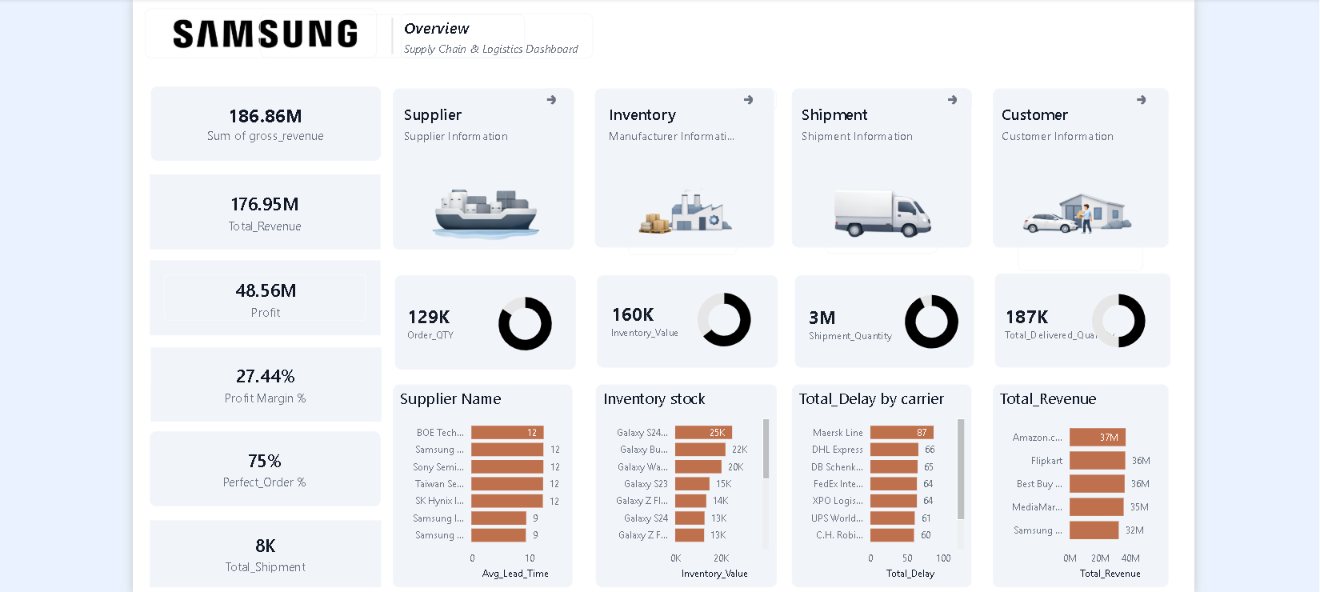

The page's visual inventory and layout, read from the dashboard file:
{"tool":"powerbi","page":{"name":"Page 1","canvas":[1280,720],"ordinal":0},"visuals":[{"type":"shape","box":[313.7,108.6,218.4,194.2],"z":0},{"type":"shape","box":[1037.5,108.6,212.3,191.8],"z":1000},{"type":"shape","box":[795,108.6,217.2,191.8],"z":2000},{"type":"shape","box":[557.4,108.6,217.2,191.8],"z":3000},{"type":"image","box":[346.2,206.3,153.2,94.1],"z":4000},{"type":"image","box":[14.5,12.1,279.9,60.3],"z":5000},{"type":"image","box":[597.2,197.9,131.5,112.2],"z":6000},{"type":"image","box":[834.9,201.5,136.3,106.2],"z":7000},{"type":"image","box":[1067.7,185.8,150.8,143.6],"z":8000},{"type":"actionButton","box":[491,108.6,41,27.7],"z":9000},{"type":"actionButton","box":[728.7,108.6,48.3,27.7],"z":10000},{"type":"actionButton","box":[974.8,108.6,37.4,27.7],"z":11000},{"type":"actionButton","box":[1202.8,108.6,47.1,27.7],"z":12000},{"type":"shape","title":"Customer","box":[1044.8,123.1,158,54.3],"z":13000},{"type":"shape","title":"Shipment","box":[803.5,123.1,158,54.3],"z":14000},{"type":"shape","title":"Inventory","box":[570.6,123.1,158,54.3],"z":15000},{"type":"shape","title":"Supplier","box":[323.3,123.1,158,54.3],"z":16000},{"type":"shape","title":"Overview","box":[323.3,18.1,231.6,54.3],"z":17000},{"type":"shape","box":[153.2,19.3,319.7,51.9],"z":18000},{"type":"cardVisual","fields":{"Data":["MeasuresTable.Total_Revenue"]},"box":[20.5,212.3,278.7,90.5],"z":19000},{"type":"cardVisual","fields":{"Data":["MeasuresTable.Profit"]},"box":[20.7,316.1,278.7,90.5],"z":20000},{"type":"cardVisual","fields":{"Data":["MeasuresTable.Total_Shipment"]},"box":[20.8,630.3,279.1,80.8],"z":21000},{"type":"cardVisual","fields":{"Data":["MeasuresTable.Perfect_Order %"]},"box":[21,522.4,278.7,90.5],"z":22000},{"type":"cardVisual","fields":{"Data":["MeasuresTable.Profit Margin %"]},"box":[21.2,421,278.7,89.3],"z":23000},{"type":"cardVisual","fields":{"Data":["Sum(fact_sales.gross_revenue)"]},"box":[21.4,106.5,277.8,89.3],"z":24000},{"type":"shape","box":[316.1,334.2,218.4,113.4],"z":25000},{"type":"shape","box":[1040,331.8,212.3,113.4],"z":26000},{"type":"shape","box":[798.7,334.2,216,111],"z":27000},{"type":"shape","box":[559.8,334.2,218.4,111],"z":28000},{"type":"cardVisual","fields":{"Data":["MeasuresTable.Order_QTY"]},"box":[313.7,345,167.7,90.5],"z":29000},{"type":"cardVisual","fields":{"Data":["MeasuresTable.Inventory_Value"]},"box":[559.8,342.6,167.7,90.5],"z":30000},{"type":"cardVisual","fields":{"Data":["MeasuresTable.Total_Shipment_Quantity"]},"box":[798.7,346.2,167.7,90.5],"z":31000},{"type":"cardVisual","fields":{"Data":["MeasuresTable.Total_Delivered_Quantity"]},"box":[1035.1,345,167.7,90.5],"z":32000},{"type":"clusteredBarChart","title":"Supplier Name","fields":{"Y":["MeasuresTable.Avg_Lead_Time"],"Category":["dim_supplier.supplier_name"]},"box":[313.7,465.7,217.2,244.9],"z":33000},{"type":"clusteredBarChart","title":"Inventory stock","fields":{"Y":["MeasuresTable.Inventory_Value"],"Category":["dim_product.product_name"]},"box":[558.6,465.7,218.4,244.9],"z":34000},{"type":"clusteredBarChart","fields":{"Y":["MeasuresTable.Total_Delay"],"Category":["fact_shipment.carrier"]},"box":[795,465.7,217.2,244.9],"z":35000},{"type":"clusteredBarChart","title":"Total_Revenue ","fields":{"Y":["MeasuresTable.Total_Revenue"],"Category":["dim_customer.customer_name"]},"box":[1037.5,465.7,212.3,244.9],"z":36000},{"type":"donutChart","fields":{"Y":["MeasuresTable.Inventory_Value","MeasuresTable.Safety_Stock"]},"box":[666,342.6,95.3,90.5],"z":37000},{"type":"donutChart","fields":{"Y":["MeasuresTable.Total_Shipment","MeasuresTable.Total_Delay"]},"box":[915.7,345,96.5,90.5],"z":38000},{"type":"donutChart","fields":{"Y":["MeasuresTable.Total_Delivered_Quantity","MeasuresTable.Total_QTY_Delay"]},"box":[1126.8,343.8,125.5,90.5],"z":39000},{"type":"donutChart","fields":{"Y":["MeasuresTable.Order_QTY","MeasuresTable.Defect_Rate"]},"box":[425.9,347.5,95.3,90.5],"z":40000}]}

Visuals, with their boxes on the page's 1280x720 design canvas (x1, y1, x2, y2). These are canvas units, not pixel positions in the 1320x592 screenshot, which may show the page scaled, cropped or inside an application window:
shape: {"left": 314, "top": 109, "right": 532, "bottom": 303}
shape: {"left": 1038, "top": 109, "right": 1250, "bottom": 300}
shape: {"left": 795, "top": 109, "right": 1012, "bottom": 300}
shape: {"left": 557, "top": 109, "right": 775, "bottom": 300}
image: {"left": 346, "top": 206, "right": 499, "bottom": 300}
image: {"left": 14, "top": 12, "right": 294, "bottom": 72}
image: {"left": 597, "top": 198, "right": 729, "bottom": 310}
image: {"left": 835, "top": 202, "right": 971, "bottom": 308}
image: {"left": 1068, "top": 186, "right": 1218, "bottom": 329}
actionButton: {"left": 491, "top": 109, "right": 532, "bottom": 136}
actionButton: {"left": 729, "top": 109, "right": 777, "bottom": 136}
actionButton: {"left": 975, "top": 109, "right": 1012, "bottom": 136}
actionButton: {"left": 1203, "top": 109, "right": 1250, "bottom": 136}
"Customer" shape: {"left": 1045, "top": 123, "right": 1203, "bottom": 177}
"Shipment" shape: {"left": 804, "top": 123, "right": 962, "bottom": 177}
"Inventory" shape: {"left": 571, "top": 123, "right": 729, "bottom": 177}
"Supplier" shape: {"left": 323, "top": 123, "right": 481, "bottom": 177}
"Overview" shape: {"left": 323, "top": 18, "right": 555, "bottom": 72}
shape: {"left": 153, "top": 19, "right": 473, "bottom": 71}
cardVisual - MeasuresTable.Total_Revenue: {"left": 20, "top": 212, "right": 299, "bottom": 303}
cardVisual - MeasuresTable.Profit: {"left": 21, "top": 316, "right": 299, "bottom": 407}
cardVisual - MeasuresTable.Total_Shipment: {"left": 21, "top": 630, "right": 300, "bottom": 711}
cardVisual - MeasuresTable.Perfect_Order %: {"left": 21, "top": 522, "right": 300, "bottom": 613}
cardVisual - MeasuresTable.Profit Margin %: {"left": 21, "top": 421, "right": 300, "bottom": 510}
cardVisual - Sum(fact_sales.gross_revenue): {"left": 21, "top": 106, "right": 299, "bottom": 196}
shape: {"left": 316, "top": 334, "right": 534, "bottom": 448}
shape: {"left": 1040, "top": 332, "right": 1252, "bottom": 445}
shape: {"left": 799, "top": 334, "right": 1015, "bottom": 445}
shape: {"left": 560, "top": 334, "right": 778, "bottom": 445}
cardVisual - MeasuresTable.Order_QTY: {"left": 314, "top": 345, "right": 481, "bottom": 436}
cardVisual - MeasuresTable.Inventory_Value: {"left": 560, "top": 343, "right": 728, "bottom": 433}
cardVisual - MeasuresTable.Total_Shipment_Quantity: {"left": 799, "top": 346, "right": 966, "bottom": 437}
cardVisual - MeasuresTable.Total_Delivered_Quantity: {"left": 1035, "top": 345, "right": 1203, "bottom": 436}
"Supplier Name" clusteredBarChart: {"left": 314, "top": 466, "right": 531, "bottom": 711}
"Inventory stock" clusteredBarChart: {"left": 559, "top": 466, "right": 777, "bottom": 711}
clusteredBarChart - MeasuresTable.Total_Delay x fact_shipment.carrier: {"left": 795, "top": 466, "right": 1012, "bottom": 711}
"Total_Revenue " clusteredBarChart: {"left": 1038, "top": 466, "right": 1250, "bottom": 711}
donutChart - MeasuresTable.Inventory_Value x MeasuresTable.Safety_Stock: {"left": 666, "top": 343, "right": 761, "bottom": 433}
donutChart - MeasuresTable.Total_Shipment x MeasuresTable.Total_Delay: {"left": 916, "top": 345, "right": 1012, "bottom": 436}
donutChart - MeasuresTable.Total_Delivered_Quantity x MeasuresTable.Total_QTY_Delay: {"left": 1127, "top": 344, "right": 1252, "bottom": 434}
donutChart - MeasuresTable.Order_QTY x MeasuresTable.Defect_Rate: {"left": 426, "top": 348, "right": 521, "bottom": 438}
